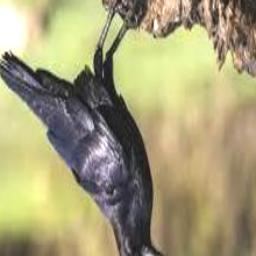Crow: (0, 0, 168, 256)
